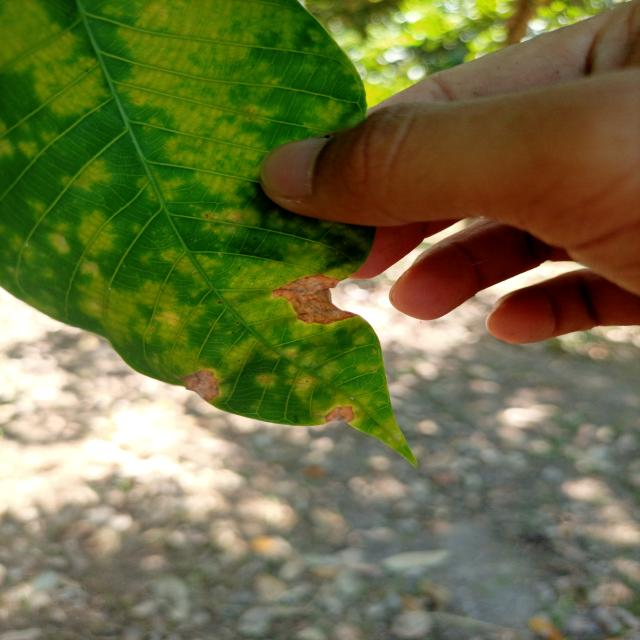Colletotrichum: (217, 301, 221, 304), (306, 380, 308, 383), (238, 359, 240, 362), (236, 322, 239, 324), (232, 332, 234, 334)
Leaf-Blight: (273, 273, 358, 323), (180, 369, 219, 402), (325, 406, 354, 424)
